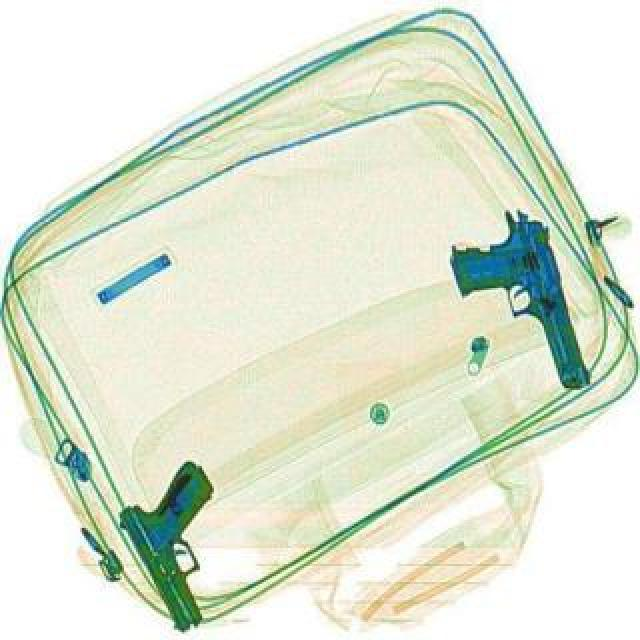gun: (438, 200, 590, 406), (102, 456, 268, 634)
